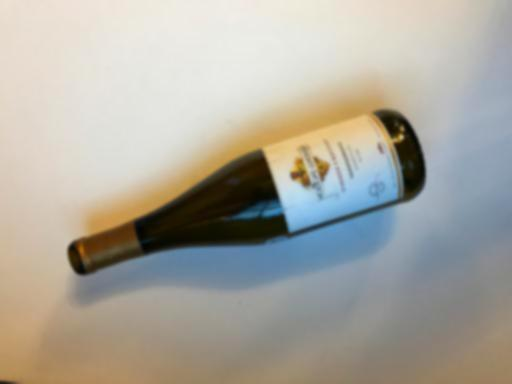alcohol: (67, 109, 426, 277)
glass: (67, 109, 426, 277)
sodocalcique: (67, 109, 426, 277)
